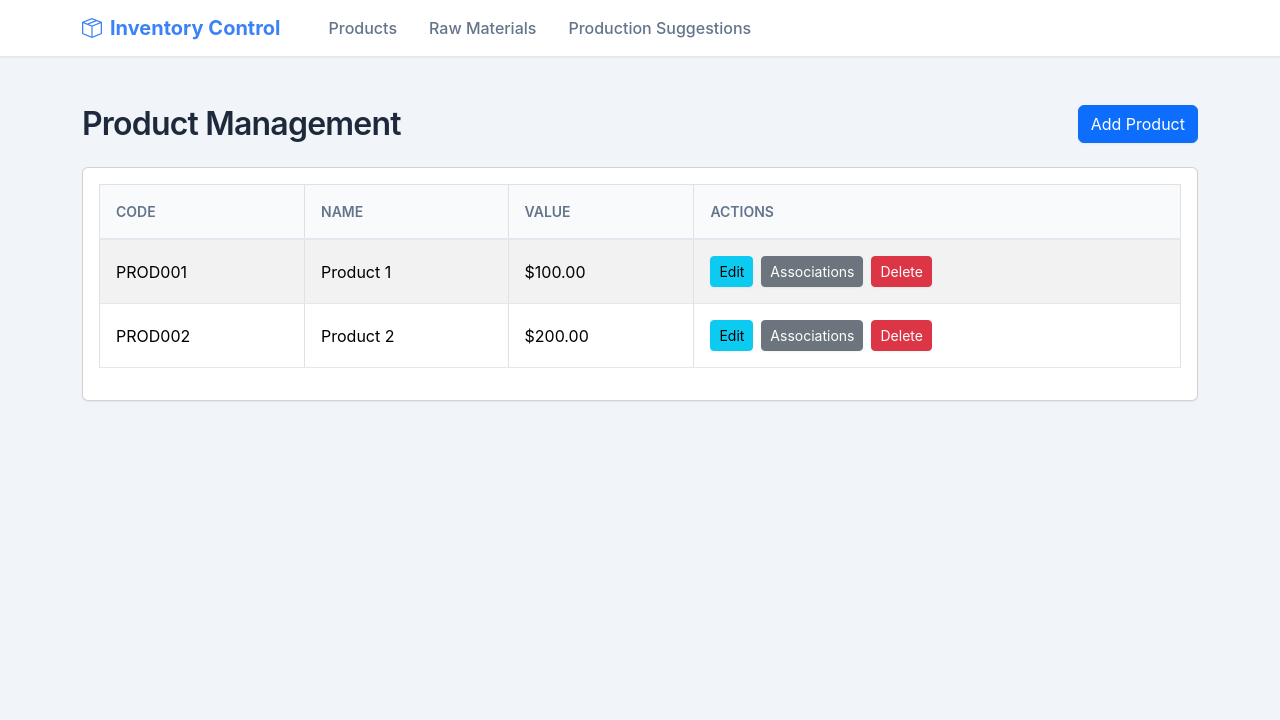
Product Management › should edit a product
Click the button "Edit" in the row of "PROD001".
click(732, 272)  # box [710, 256, 753, 287]
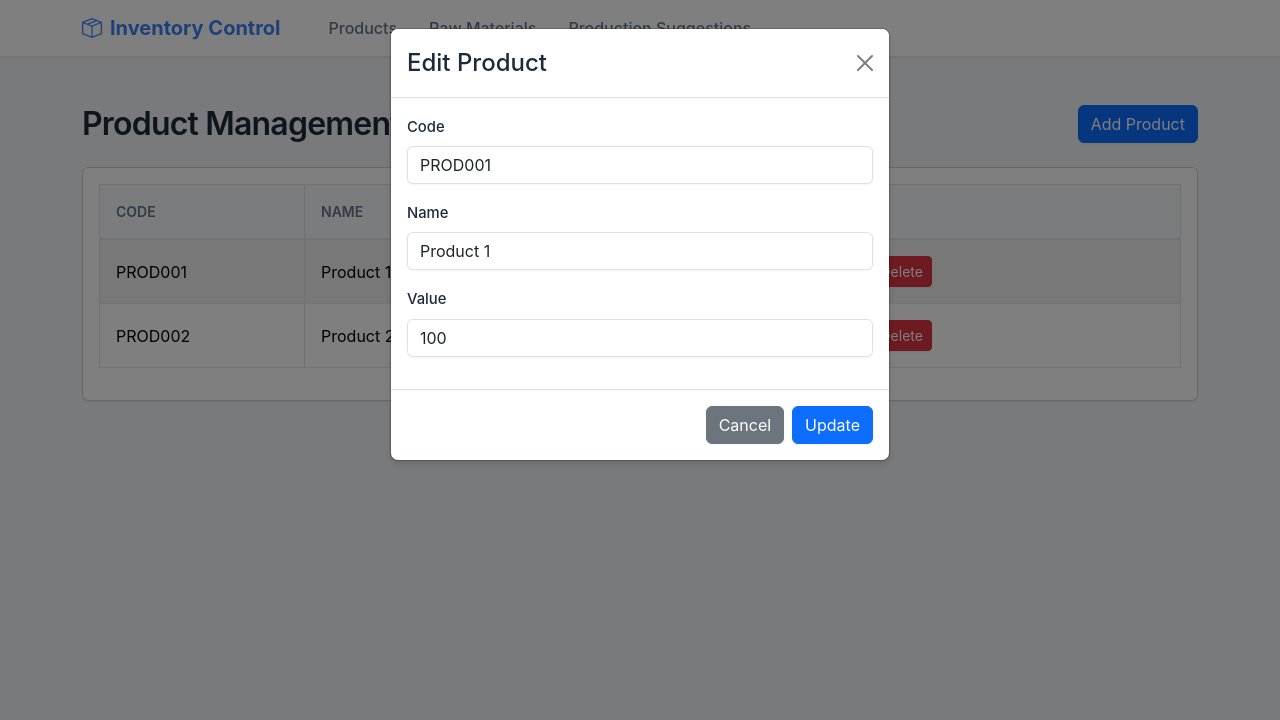
Expected: the text "Edit Product" is shown, [407, 45, 547, 81]
Replace the text in the 2nd field with "Updated Product" at (640,251), box [407, 232, 873, 270]
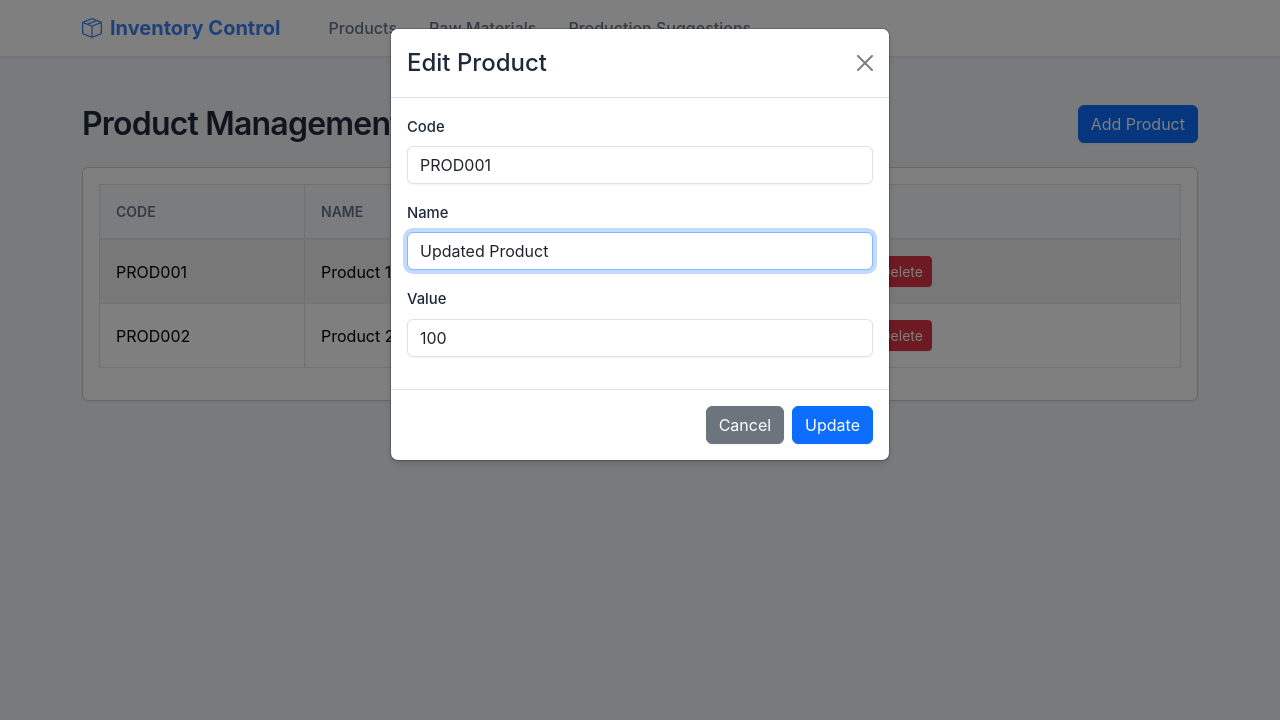
Replace the text in the number field with "150.00" at (640,338), box [407, 319, 873, 357]
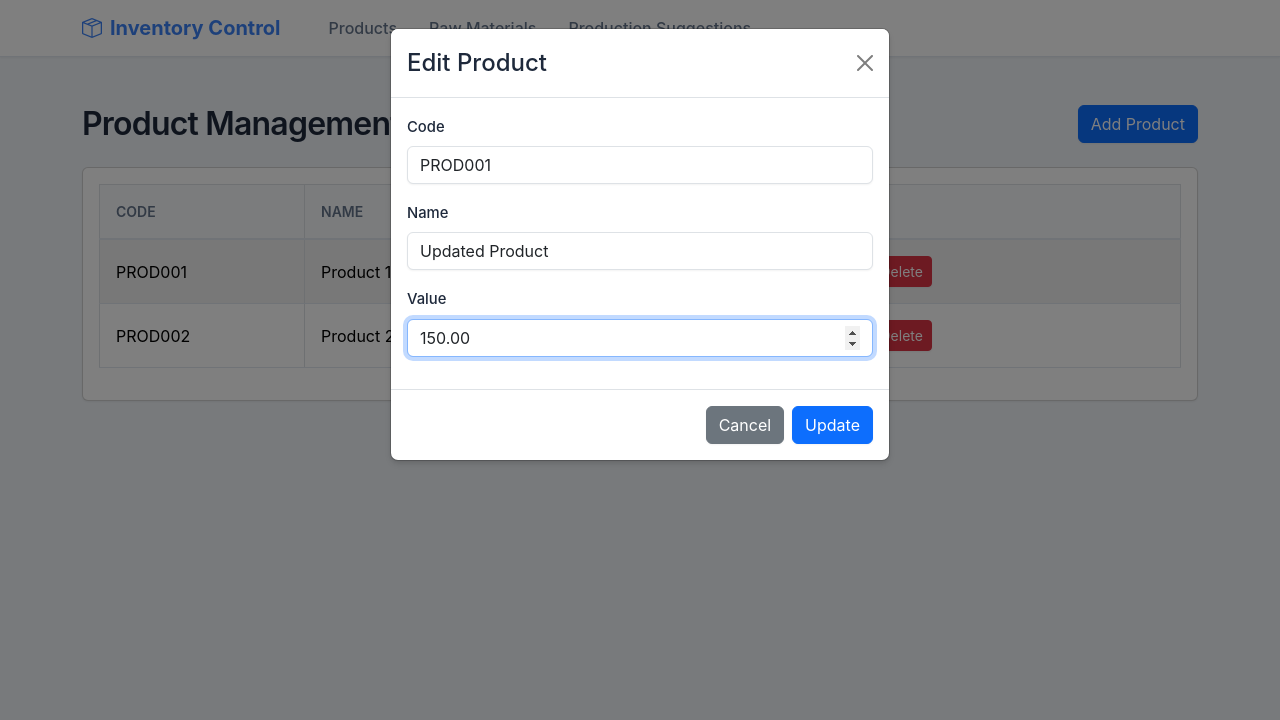
Click the button "Update".
click(833, 425)  # box [792, 406, 873, 444]
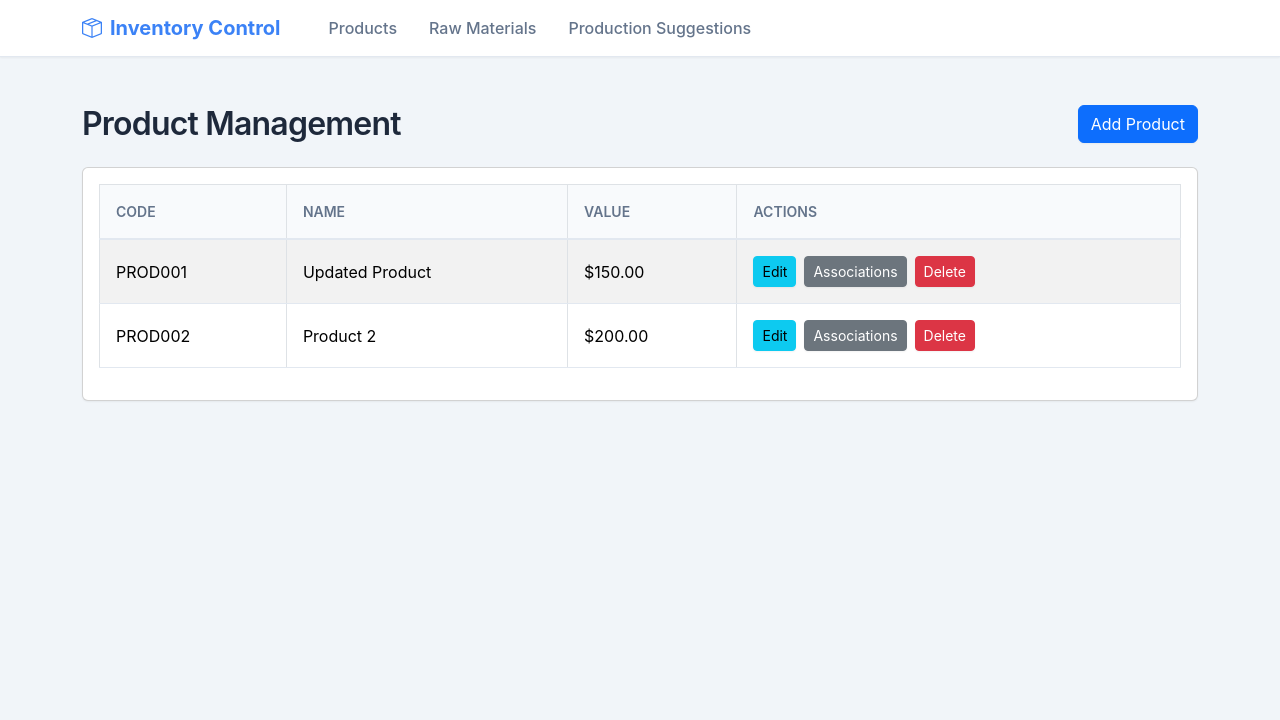
Expected: the text "Updated Product" is shown, [286, 239, 568, 304]
